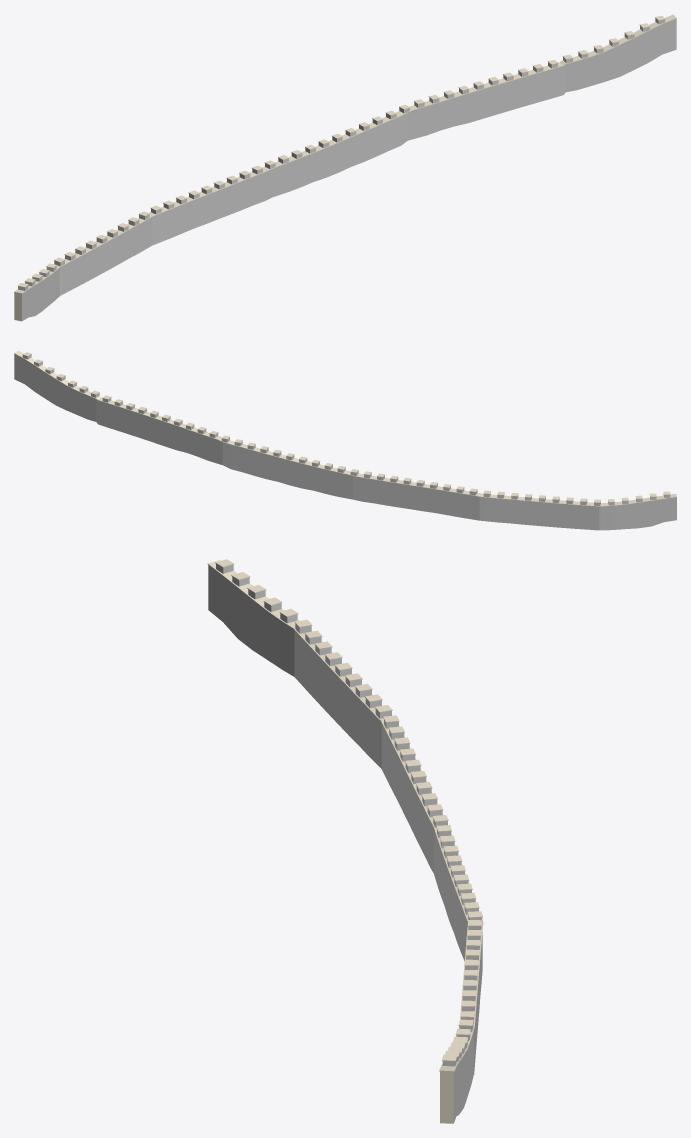
The model's file is SM_BM_BC_Mura_1.glb.
3 views of the same model, one above another, from view 1: azimuth 30°, elevation 25°; view 2: azimuth 150°, elevation 25°; view 3: azimuth 270°, elevation 25° (orthographic). The views are drawn at different scales.
Parts seen in each view (by area): view 1: SM_BM_BC_Mura_1; view 2: SM_BM_BC_Mura_1; view 3: SM_BM_BC_Mura_1.
Boxes of the visible parts, x1=… form: SM_BM_BC_Mura_1: x1=14, y1=14, x2=676, y2=321; SM_BM_BC_Mura_1: x1=14, y1=350, x2=676, y2=530; SM_BM_BC_Mura_1: x1=207, y1=559, x2=483, y2=1123.
Size of the model in its own units: 160 by 17.97 by 31.59.
